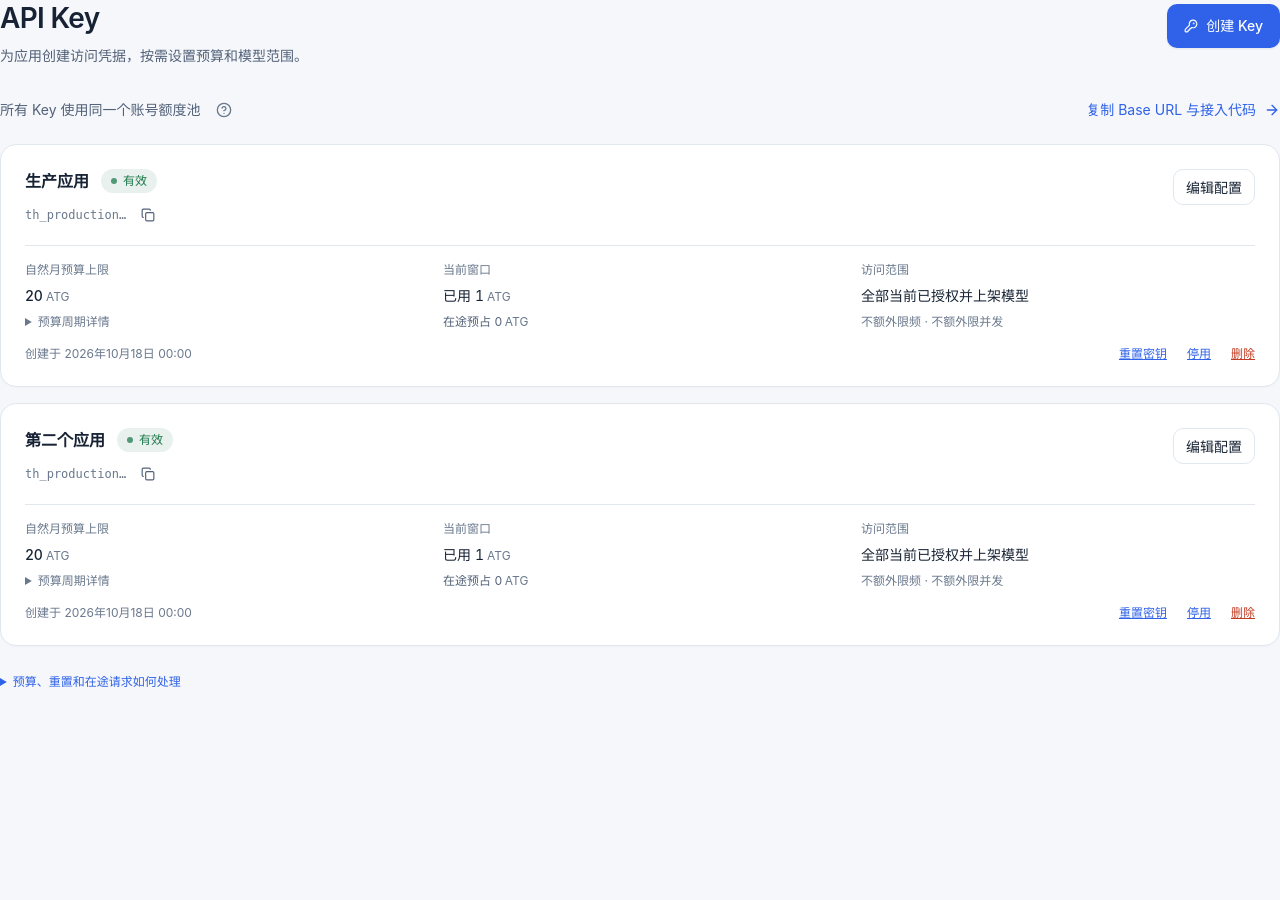
Test case: locks new and other Key mutations while a reset result is unknown
The image size is (1280, 900).
Click the 1st button "重置密钥" at (1143, 354), box [1119, 346, 1167, 362]
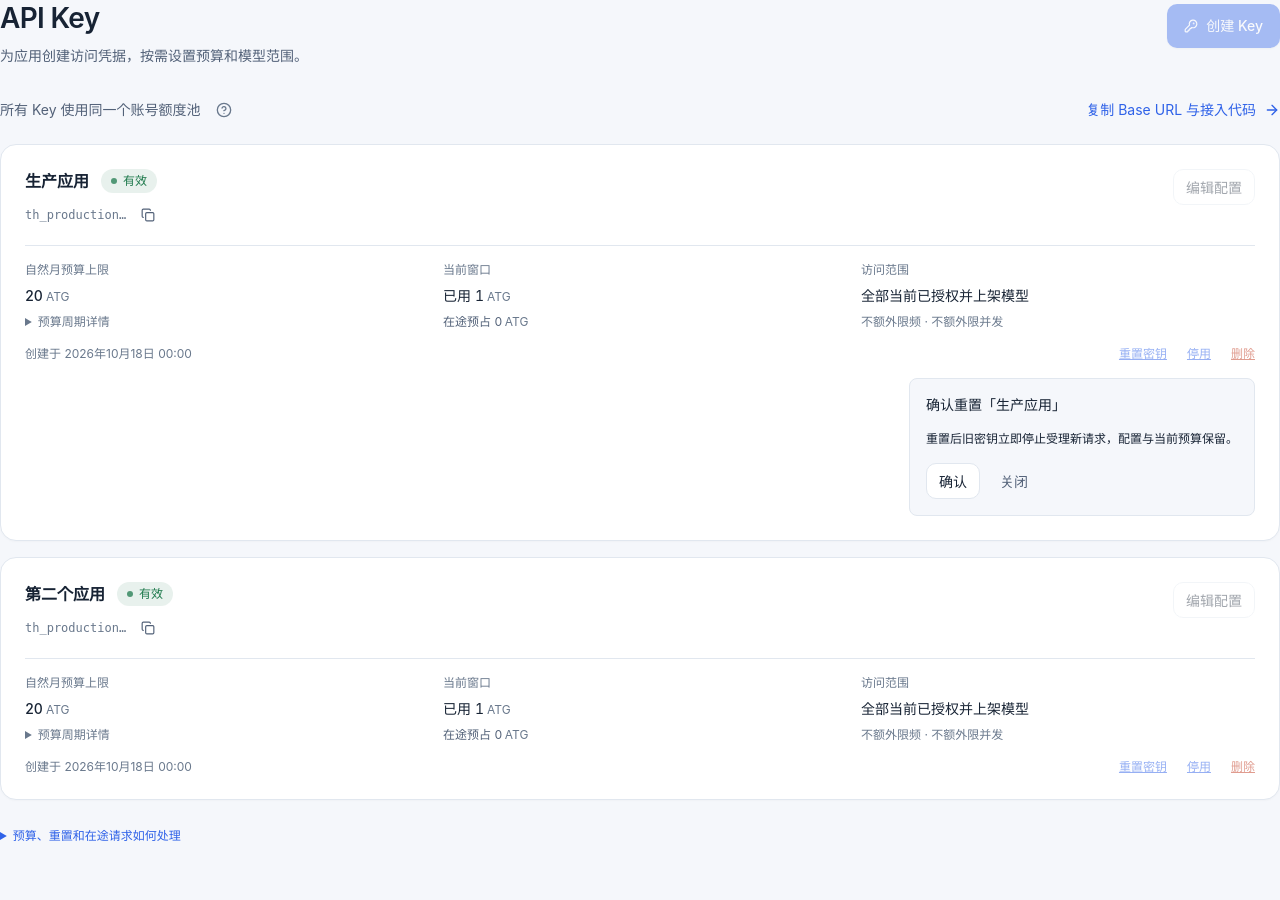
Click the button "确认" at (953, 481), box [926, 463, 980, 499]
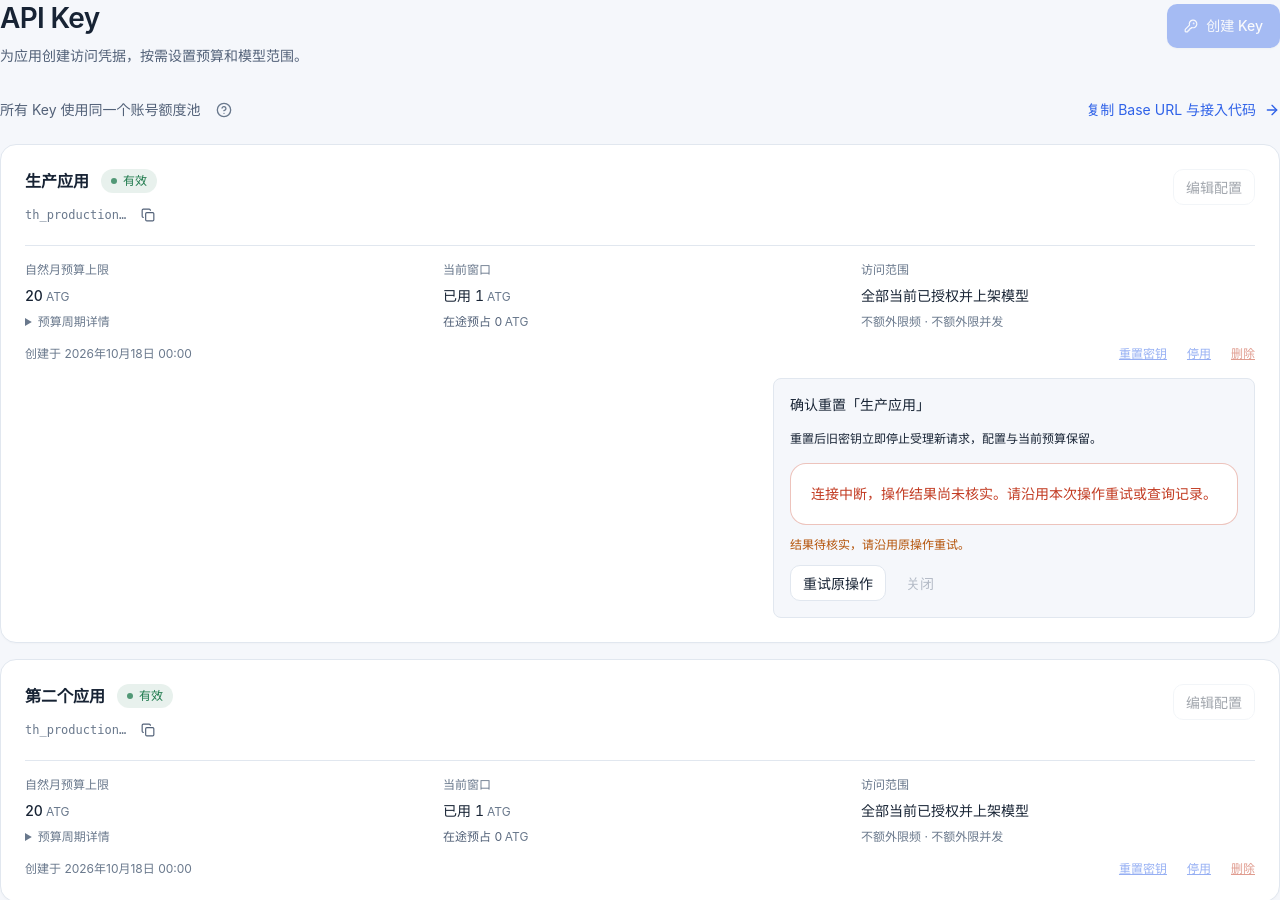
expect the button "创建 Key" is disabled: met, box [1167, 4, 1279, 48]
expect the 2nd button "重置密钥" is disabled: met, box [1119, 861, 1167, 877]
expect the button "重试原操作" is shown: met, box [790, 565, 886, 601]
